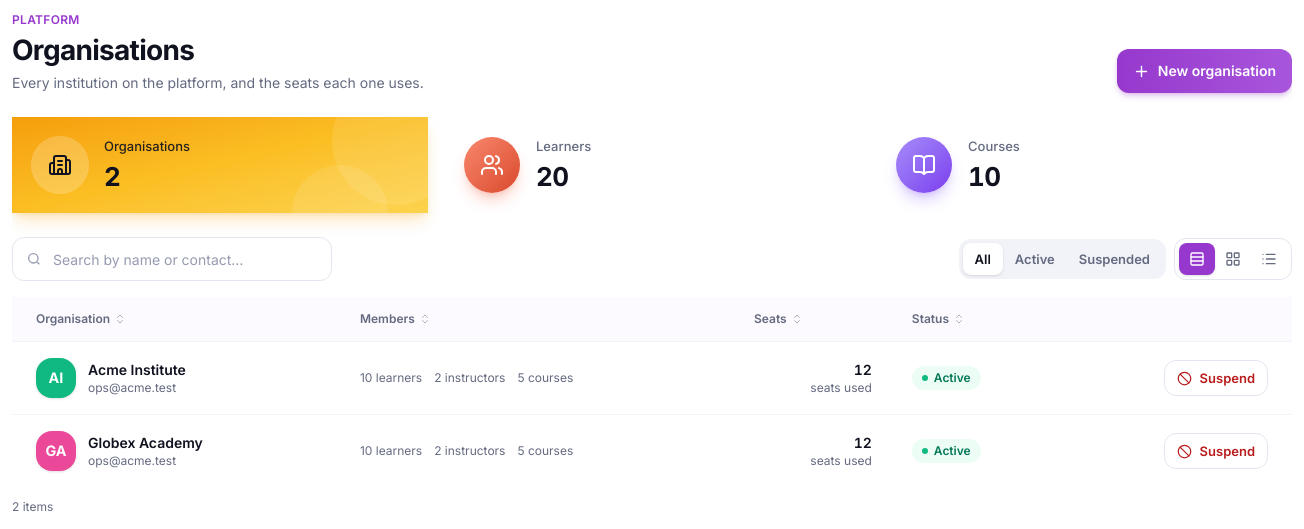
Test: OrganisationsPage: the roster › filters by name
This screenshot has width=1304, height=529.
Expected: the link "Acme Institute" is shown, [88,361,186,378]
Type "globex" into the search field at (172, 259), box [12,237,332,281]
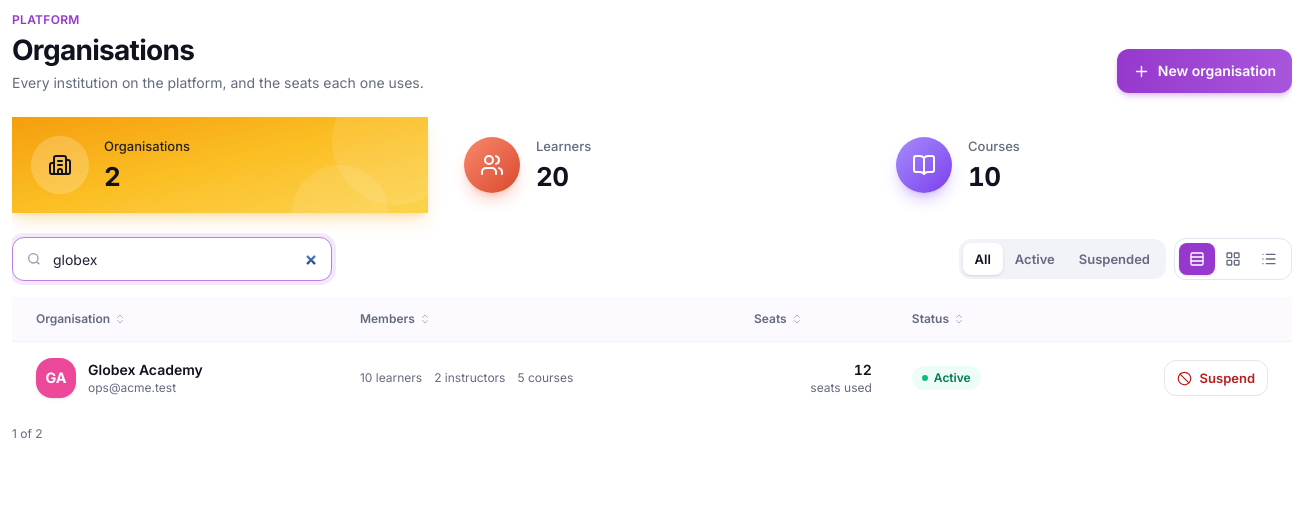
Expected: the link "Globex Academy" is shown, [88,361,203,378]
Result: the link "Acme Institute" is gone
